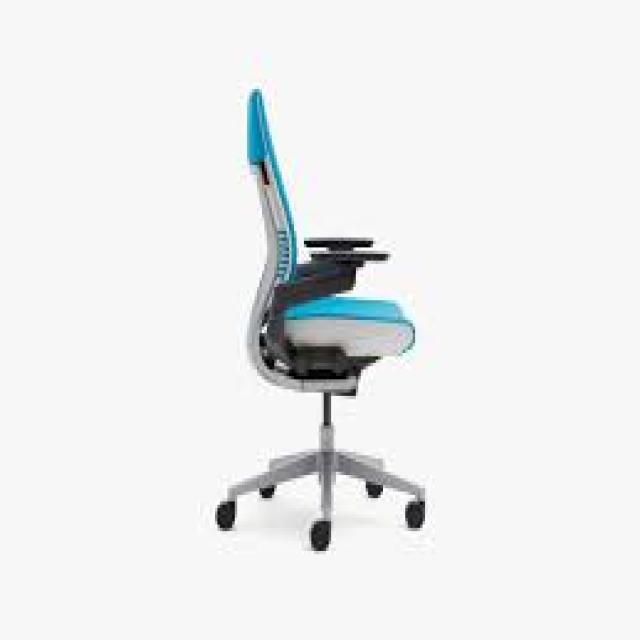chair: (190, 72, 466, 640)
